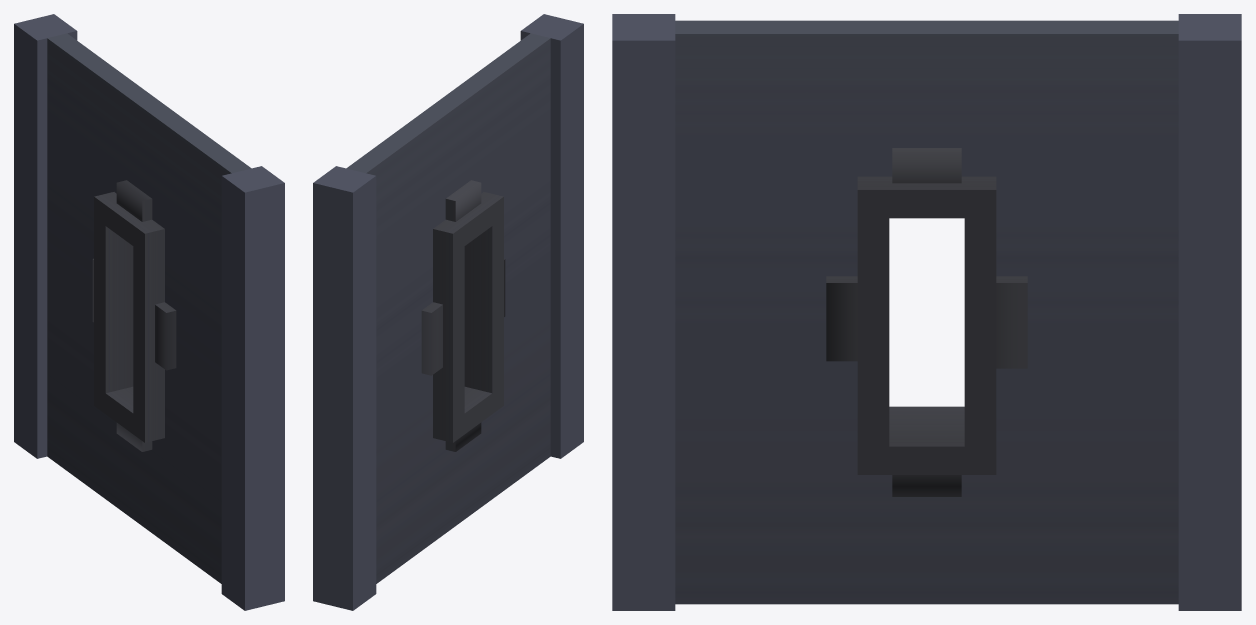
The model's file is wall-window-stone.glb.
The picture shows the model from 3 angles, left to right: view 1: azimuth 30°, elevation 25°; view 2: azimuth 150°, elevation 25°; view 3: azimuth 270°, elevation 25°; orthographic projection. The views are drawn at different scales.
Visible parts, largest first — view 1: wall-window-stone; view 2: wall-window-stone; view 3: wall-window-stone.
Part boxes in pixels (x1,y1,x2,y2): wall-window-stone: [14, 14, 284, 610]; wall-window-stone: [313, 14, 583, 610]; wall-window-stone: [612, 14, 1241, 610].
Bounding box in the file's own units: 0.15 × 1 × 1.
1 material, 1 textured.
